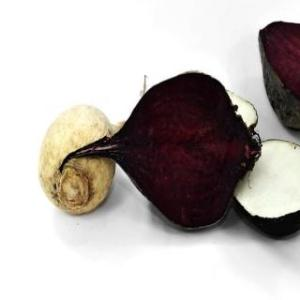beet: (59, 67, 263, 235), (256, 14, 300, 134)
